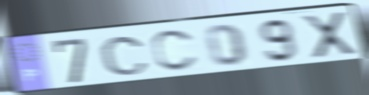0: (204, 23, 250, 70)
7: (51, 37, 89, 85)
9: (258, 17, 300, 64)
C: (149, 27, 199, 73), (99, 35, 152, 77)
X: (299, 10, 360, 61)
